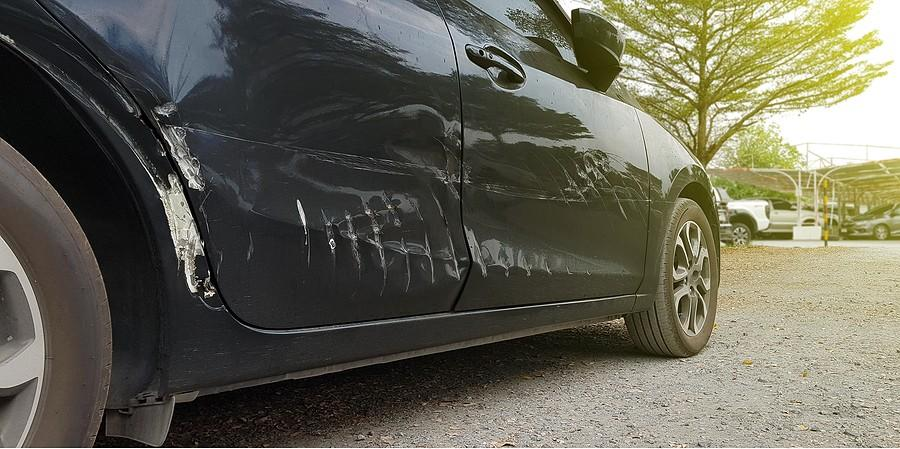dent: (141, 95, 655, 308)
scratch: (5, 20, 592, 322), (511, 126, 648, 226)
